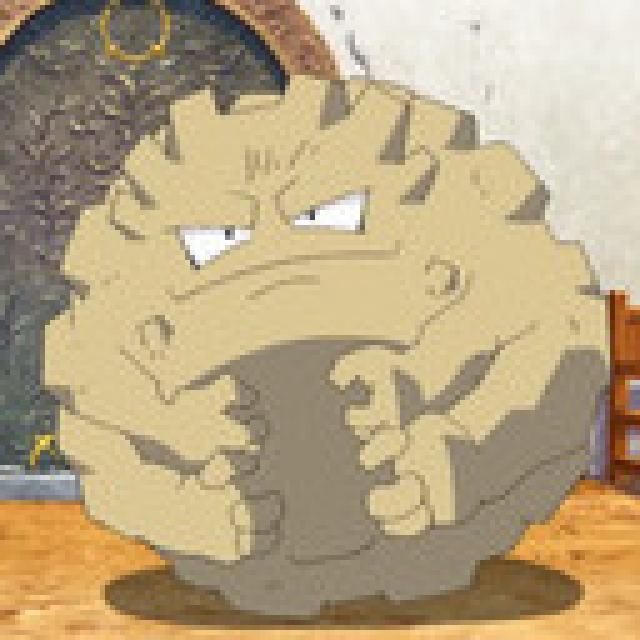Graveler: (52, 71, 604, 624)
